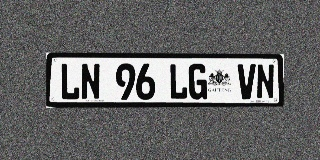6: (136, 63, 155, 100)
9: (116, 63, 135, 100)
G: (188, 64, 207, 99)
L: (60, 63, 80, 100), (169, 64, 188, 100)
N: (81, 63, 100, 100), (256, 64, 274, 99)
V: (237, 64, 256, 99)
